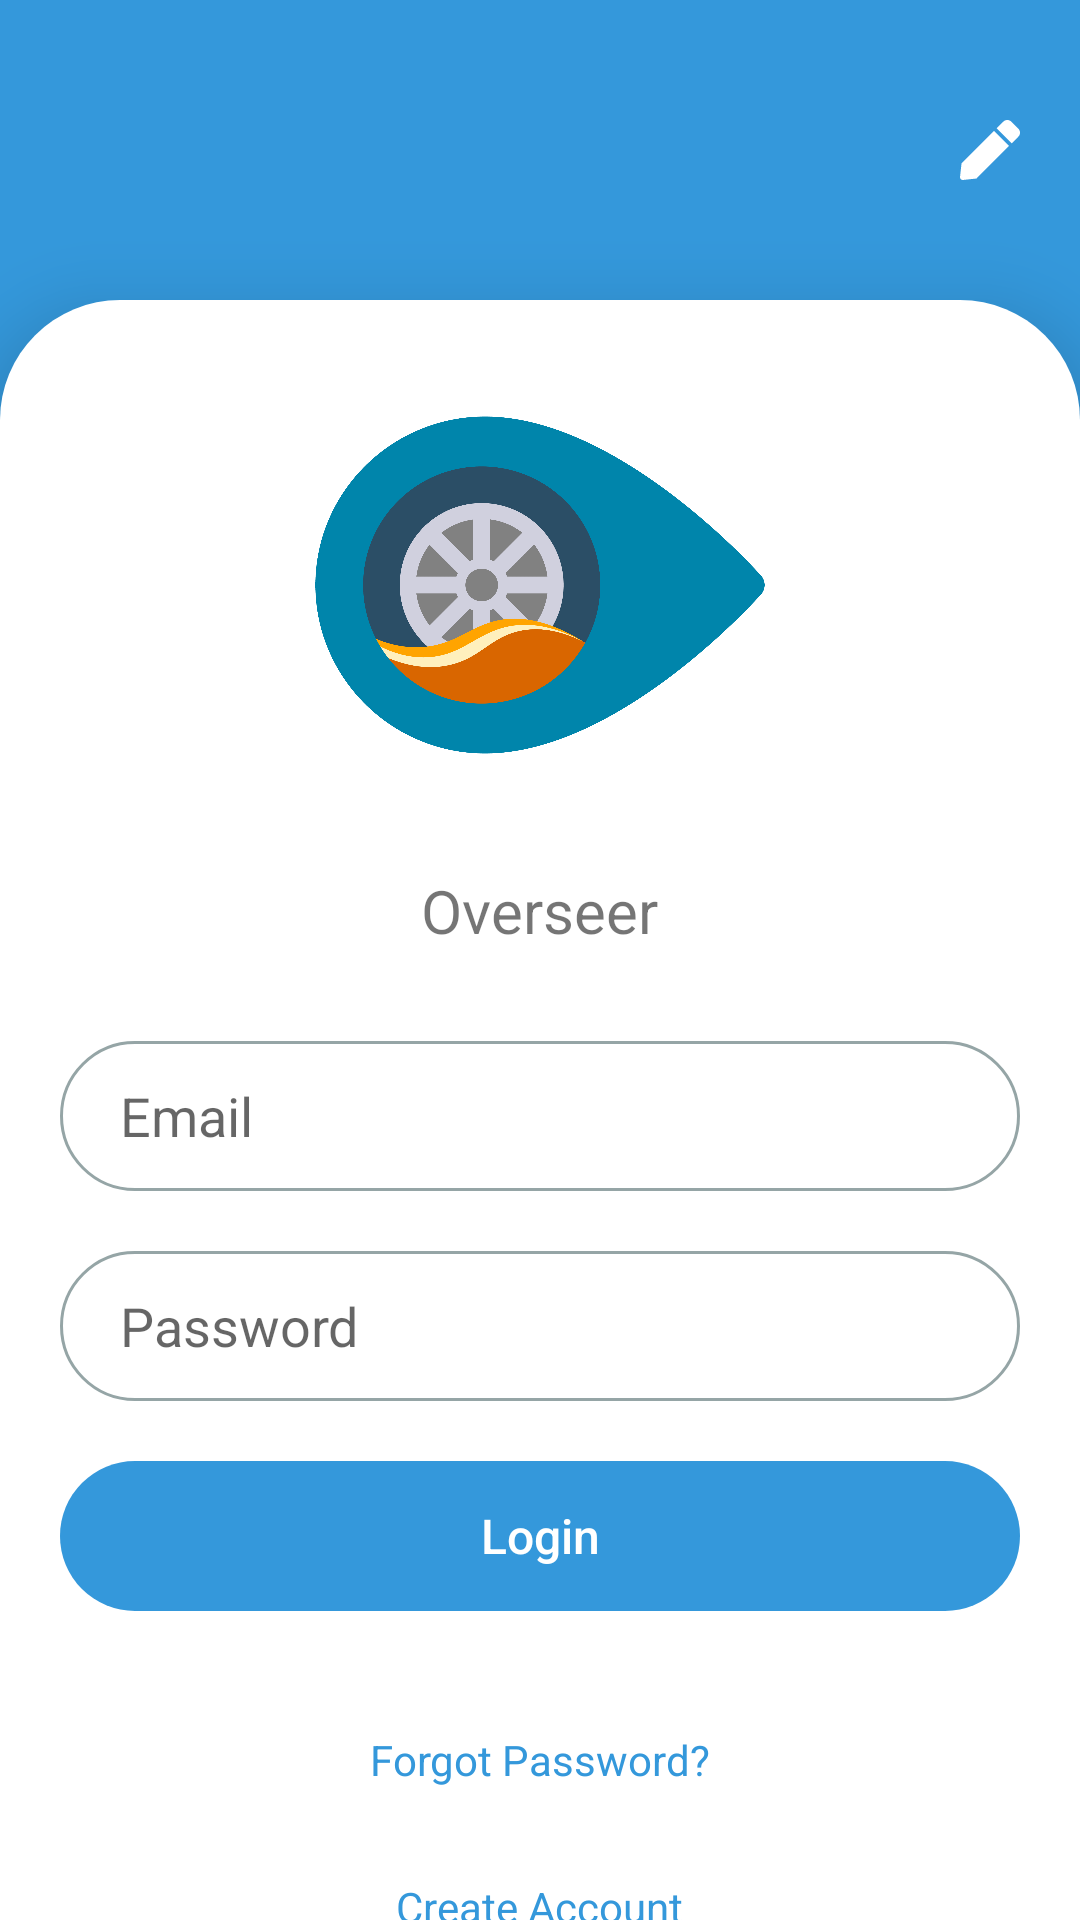

Where icons sit on this 1080 x 1920 app screen, as [x1=x1, y1=y1, x2=x2, y2=y2]:
pen: [x1=960, y1=120, x2=1020, y2=180]
